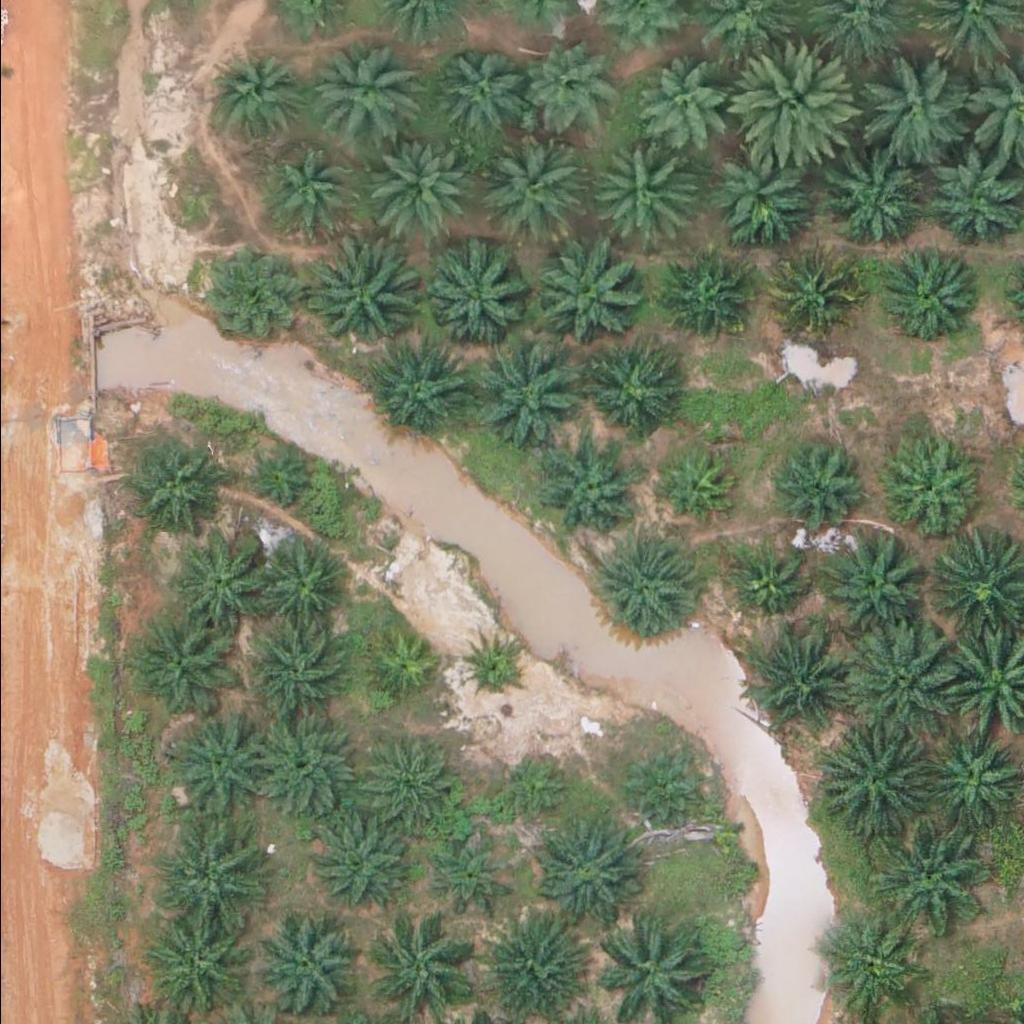Kelapa_Sawit: (728, 46, 854, 171), (816, 720, 930, 833), (862, 48, 976, 161), (526, 811, 639, 924), (248, 709, 361, 822), (160, 706, 273, 819), (121, 608, 234, 721), (475, 337, 588, 450), (531, 238, 644, 351), (420, 242, 533, 355), (150, 814, 264, 926), (132, 904, 245, 1016), (471, 907, 584, 1019), (875, 820, 988, 932), (842, 628, 955, 740), (308, 241, 421, 353), (255, 911, 356, 1011), (824, 528, 925, 628), (304, 811, 405, 911), (238, 619, 339, 719), (247, 534, 348, 634), (366, 336, 467, 436), (121, 436, 222, 536), (882, 248, 983, 348), (193, 244, 294, 344), (823, 155, 924, 255), (586, 141, 687, 241), (474, 136, 575, 236), (366, 132, 467, 232), (815, 916, 915, 1016), (750, 626, 850, 726), (590, 536, 690, 636), (357, 734, 457, 834), (168, 529, 268, 629), (882, 439, 982, 539), (537, 442, 637, 542), (917, 150, 1017, 250), (717, 140, 817, 240), (315, 43, 415, 143), (423, 834, 511, 922), (615, 739, 703, 827), (777, 436, 865, 524), (582, 347, 670, 435), (771, 247, 859, 335), (519, 40, 607, 128), (431, 43, 520, 130), (663, 250, 751, 337), (261, 150, 349, 237), (212, 52, 300, 139), (639, 58, 727, 145), (658, 448, 734, 523), (733, 543, 808, 618), (497, 751, 572, 826), (359, 627, 434, 702), (235, 442, 310, 517), (458, 636, 521, 699)
